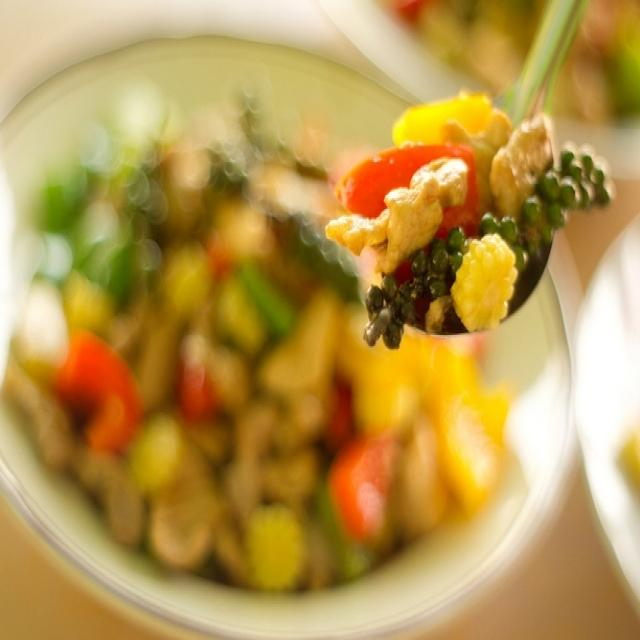蔬菜料理: (22, 29, 586, 602)
